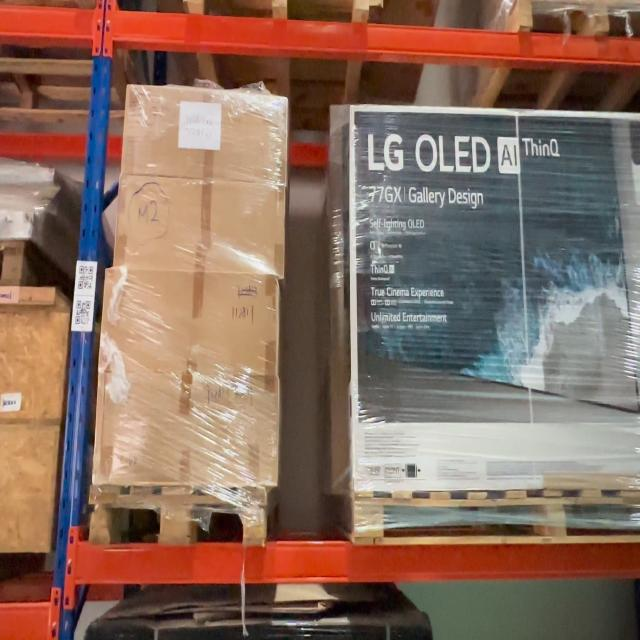box: (99, 380, 277, 489), (106, 268, 274, 370), (127, 86, 285, 182), (119, 183, 281, 267)
